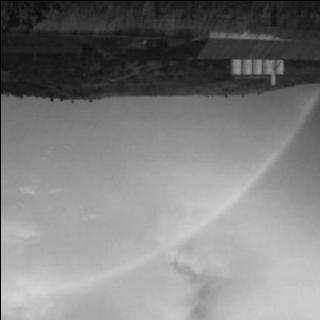Nimbostratus: (0, 79, 320, 320)
